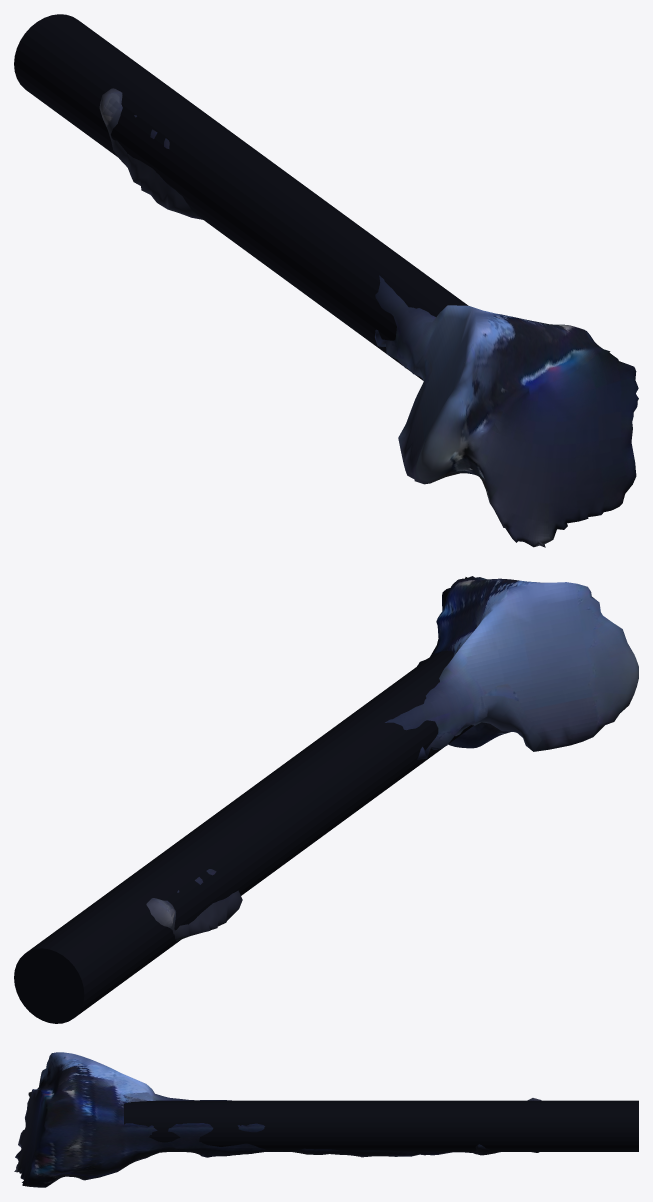
File: tripod_rod.dae
The picture shows the model from 3 angles, top to bottom: view 1: azimuth 30°, elevation 25°; view 2: azimuth 150°, elevation 25°; view 3: azimuth 270°, elevation 25°; orthographic projection. The views are drawn at different scales.
Parts seen in each view (by area): view 1: tripod_rod, Cylinder; view 2: Cylinder, tripod_rod; view 3: Cylinder, tripod_rod.
Boxes of the visible parts, x1,y1,x2,y2 form: tripod_rod: (99, 88, 638, 547); Cylinder: (14, 14, 468, 380); Cylinder: (14, 651, 473, 1023); tripod_rod: (146, 576, 638, 941); Cylinder: (124, 1100, 638, 1151); tripod_rod: (14, 1052, 541, 1187).
Bounding box in the file's own units: 0.0841 × 0.364 × 0.0725.
2 materials, 1 textured.
